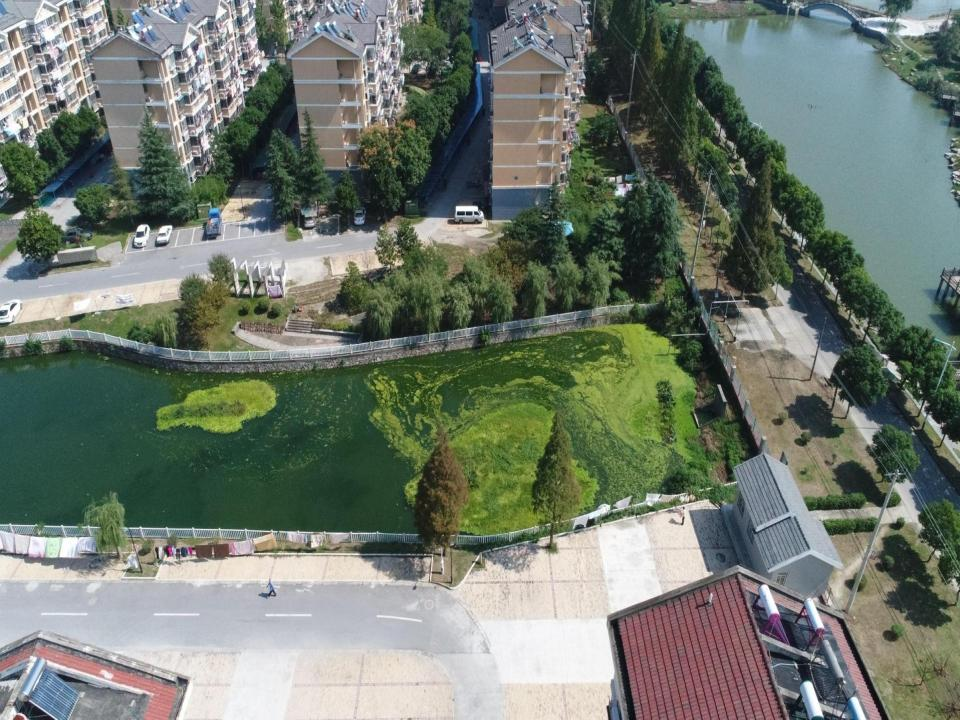car: (0, 299, 22, 325), (61, 227, 92, 245), (134, 223, 150, 249), (157, 224, 172, 246), (304, 206, 316, 228), (354, 207, 367, 226)
truck: (206, 208, 222, 239)
van: (454, 205, 484, 223)
